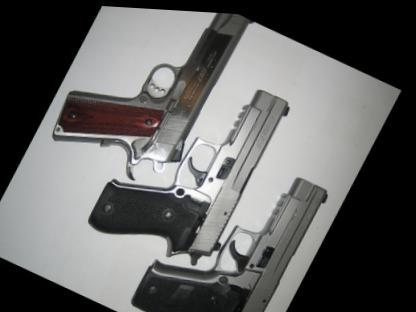pistol: (86, 43, 302, 278), (43, 3, 257, 197), (134, 129, 345, 311)
